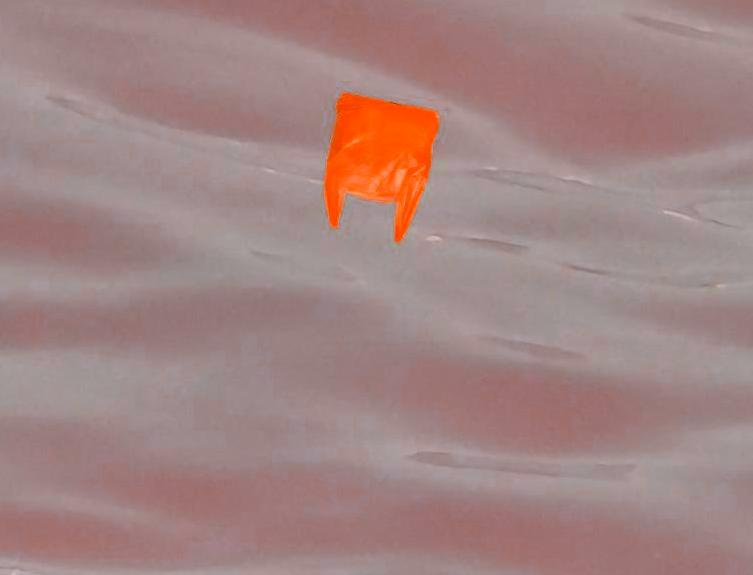Trash: (320, 87, 441, 246)
